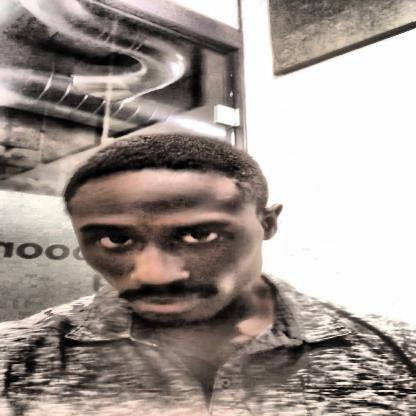not_wear: (59, 131, 288, 325)
